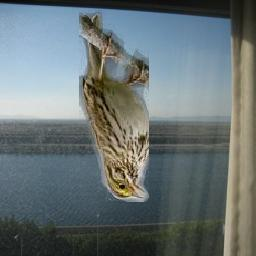Sparrow: (79, 10, 149, 202)
